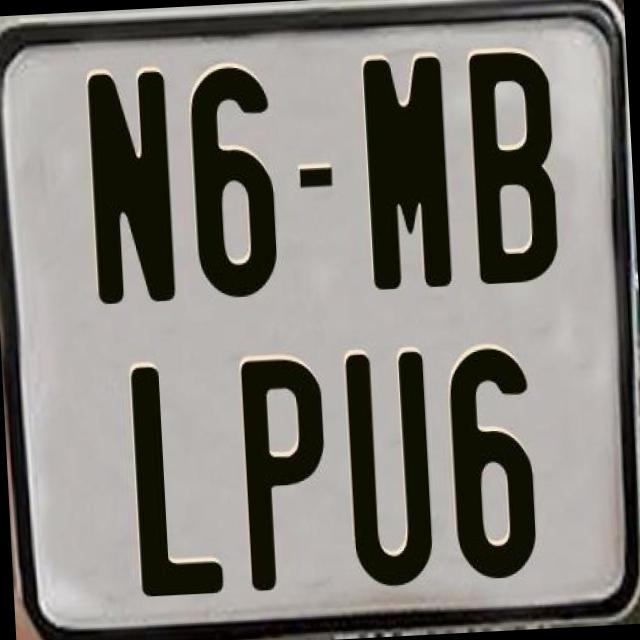6: (446, 344, 544, 579), (184, 64, 280, 300)
B: (469, 50, 565, 294)
L: (130, 359, 223, 602)
M: (360, 53, 454, 292)
N: (84, 67, 174, 305)
P: (238, 357, 335, 591)
U: (343, 350, 441, 592)
